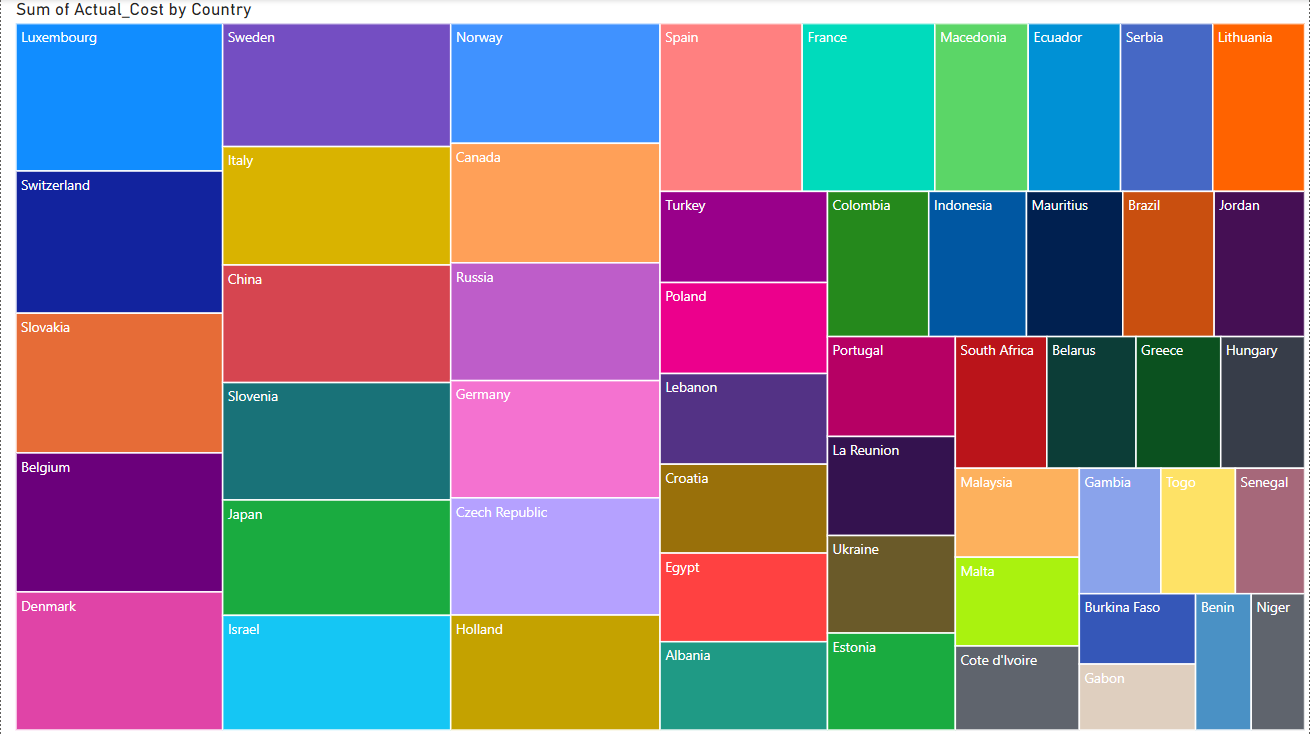

Layout of this report page (visuals, bound fields, positions):
{"tool":"powerbi","page":{"name":"Countries Treemap","canvas":[1280,720],"ordinal":8},"visuals":[{"type":"treemap","fields":{"Group":["Dental_Pharma-ProjectData.Country"],"Values":["Sum(Dental_Pharma-ProjectData.Actual_Cost)"]},"box":[9.6,0,1270.7,720.4],"z":0}]}

Visuals, with their boxes in screenshot pixels (x1, y1, x2, y2), scaled from the page's 1280x720 canvas onto the 1310x735 screenshot:
treemap - Dental_Pharma-ProjectData.Country x Sum(Dental_Pharma-ProjectData.Actual_Cost): bbox(10, 0, 1309, 734)
